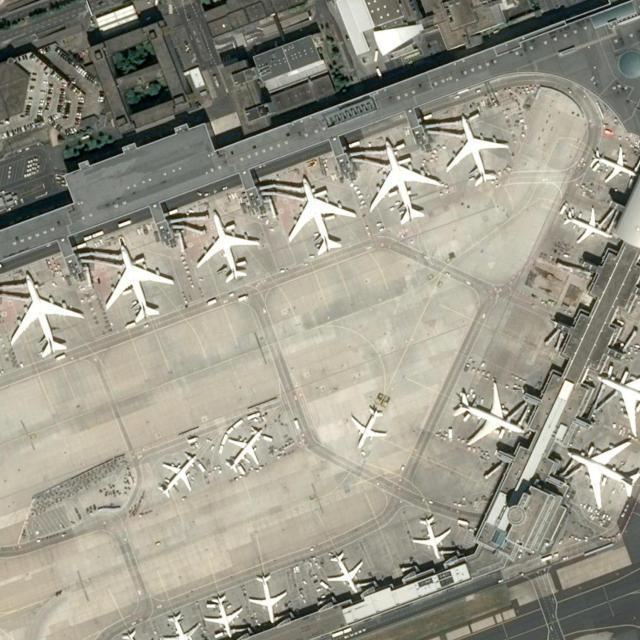Aircraft: (8, 273, 86, 360), (7, 271, 84, 359), (367, 138, 441, 224), (367, 137, 438, 225), (102, 241, 176, 324), (102, 242, 174, 325), (285, 175, 355, 255), (287, 175, 355, 255), (565, 435, 639, 507), (565, 438, 639, 510), (194, 207, 262, 283), (451, 381, 528, 447), (193, 210, 261, 284), (444, 112, 508, 188), (452, 380, 524, 447), (444, 113, 508, 186), (595, 367, 640, 435), (595, 368, 640, 436), (222, 427, 268, 475), (563, 200, 613, 244), (155, 451, 201, 497), (199, 595, 247, 639), (409, 514, 454, 560), (249, 571, 289, 622), (347, 403, 389, 451), (562, 204, 612, 244), (247, 573, 287, 623), (591, 144, 637, 186), (156, 452, 198, 497), (201, 594, 243, 639), (410, 514, 451, 560), (588, 143, 634, 183), (348, 404, 388, 450), (224, 428, 264, 474), (325, 550, 365, 595), (325, 551, 365, 595), (160, 610, 201, 640), (163, 612, 201, 640)
